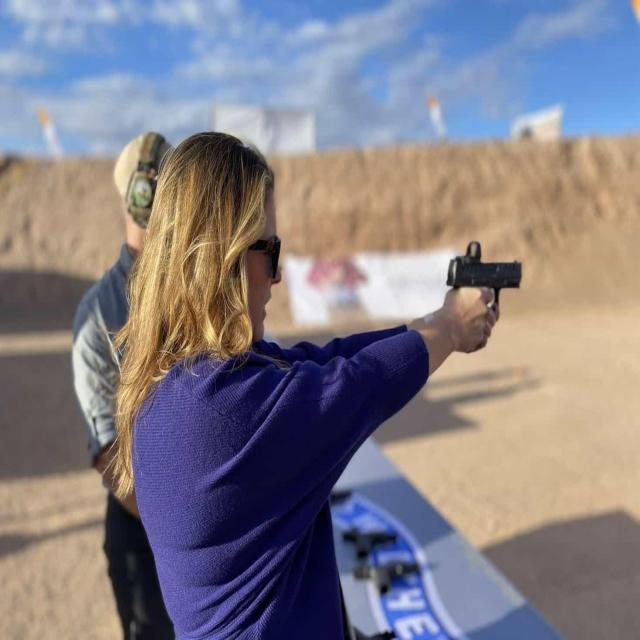gun: (446, 241, 523, 296)
